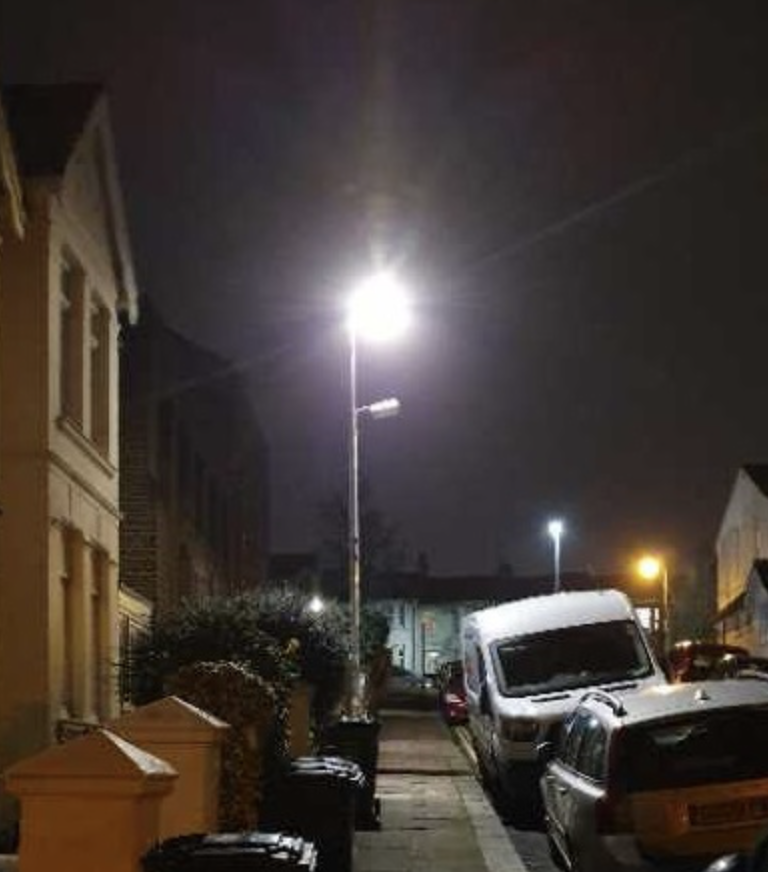LED: (326, 269, 424, 358)
